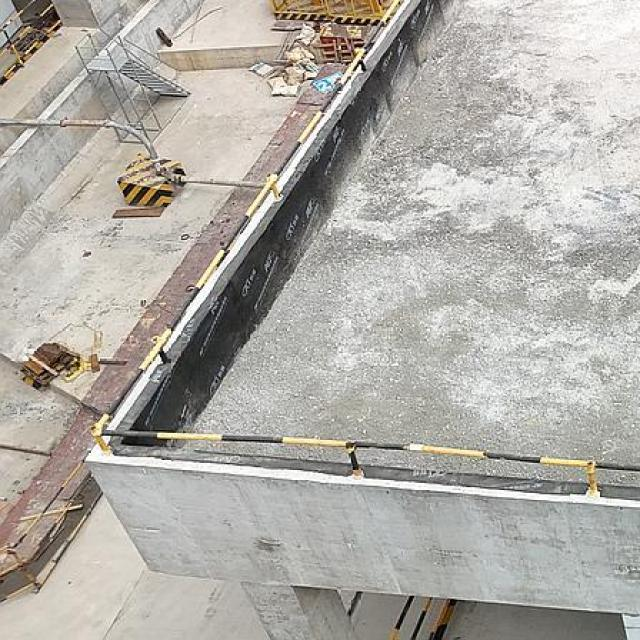edge_guardrail: (84, 0, 640, 496), (0, 0, 63, 84), (386, 594, 434, 640)
